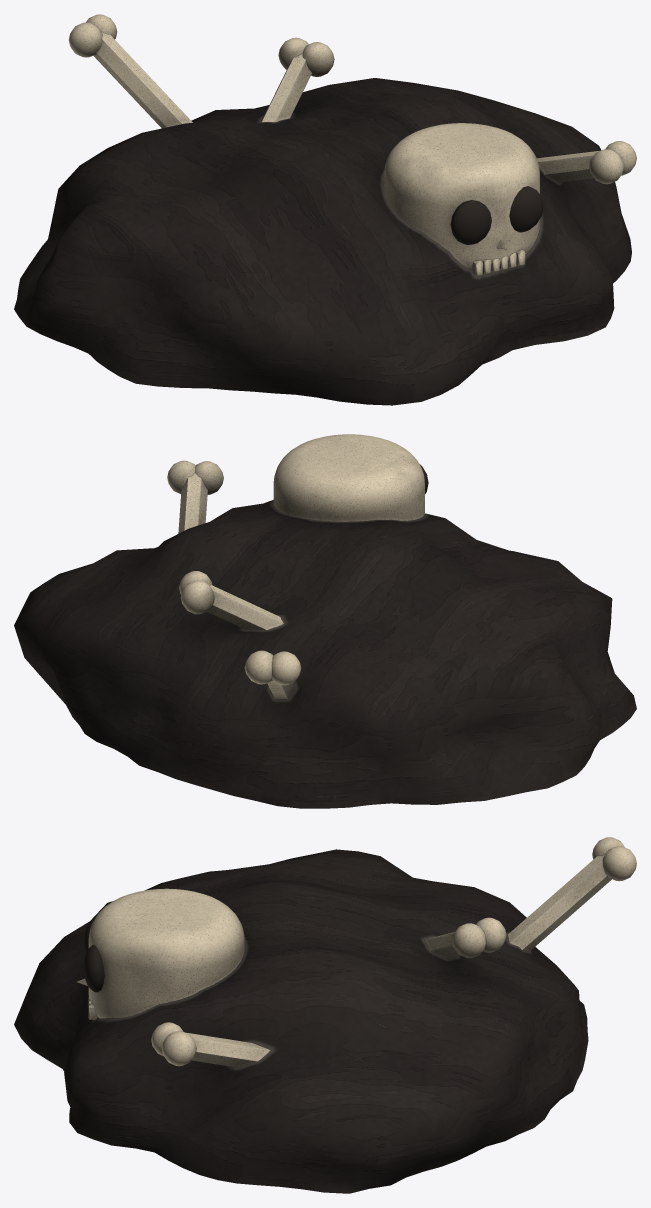
The model's file is GraveMound.fbx.
The picture shows the model from 3 angles, top to bottom: view 1: azimuth 30°, elevation 25°; view 2: azimuth 150°, elevation 25°; view 3: azimuth 270°, elevation 25°; orthographic projection. The views are drawn at different scales.
Visible parts, largest first — view 1: GraveMound; view 2: GraveMound; view 3: GraveMound.
Boxes of the visible parts, x1=… form: GraveMound: x1=14, y1=14, x2=636, y2=405; GraveMound: x1=14, y1=434, x2=636, y2=808; GraveMound: x1=14, y1=837, x2=636, y2=1193.
Size of the model in its own units: 341 by 98 by 319.
